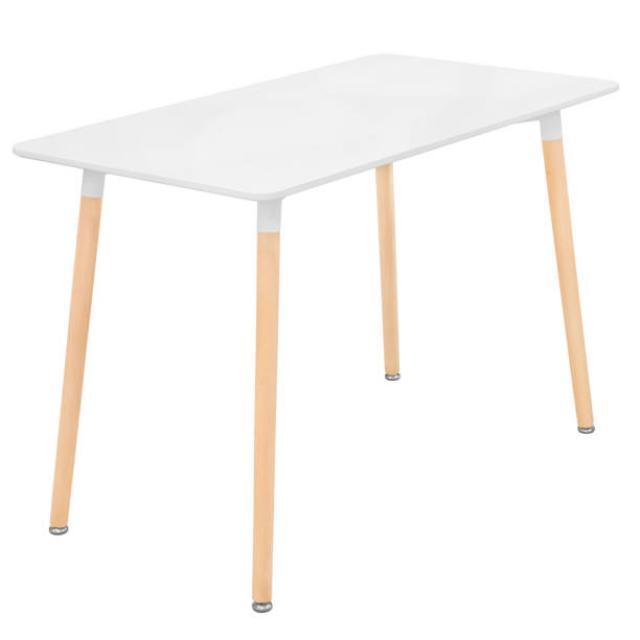table: (12, 50, 620, 612)
